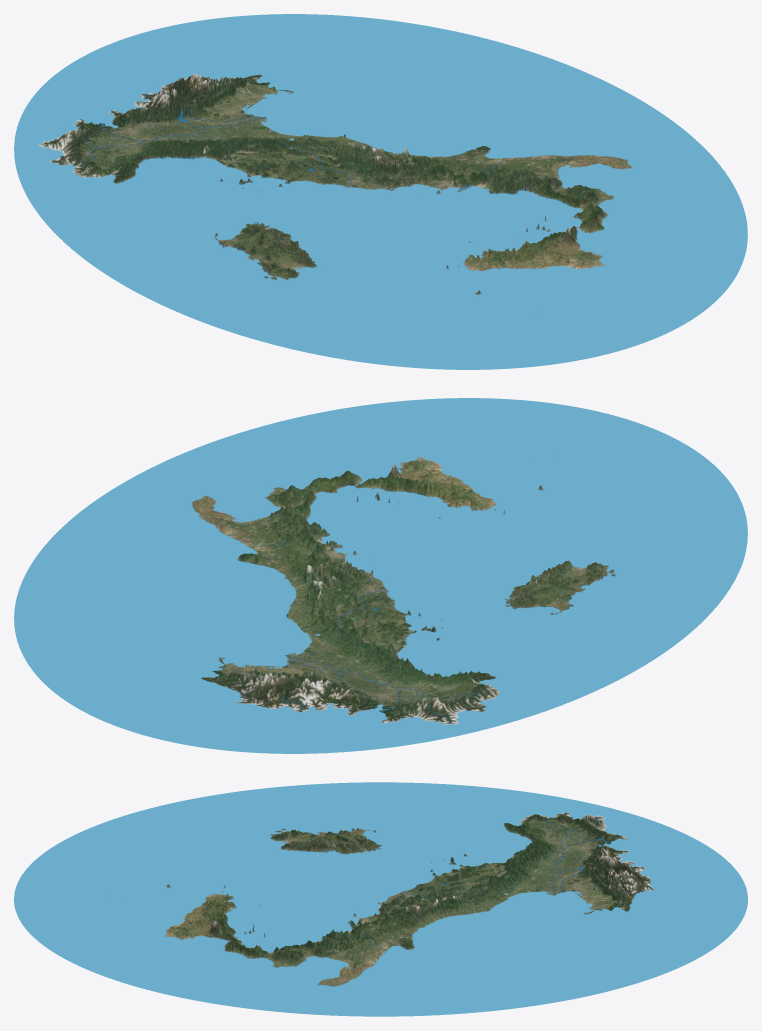
File: ITA-previa-terrain.glb
3 views of the same model, one above another, from view 1: azimuth 30°, elevation 25°; view 2: azimuth 150°, elevation 25°; view 3: azimuth 270°, elevation 25° (orthographic). The views are drawn at different scales.
Visible parts, largest first — view 1: Itália; view 2: Itália; view 3: Itália.
Part boxes in pixels (box(x1,y1,x2,y2)): Itália: box(14, 14, 747, 369); Itália: box(14, 398, 747, 753); Itália: box(14, 782, 747, 1016).
Size of the model in its own units: 1.78 by 0.0543 by 2.36.
Materials: 1 (1 with a texture image).
